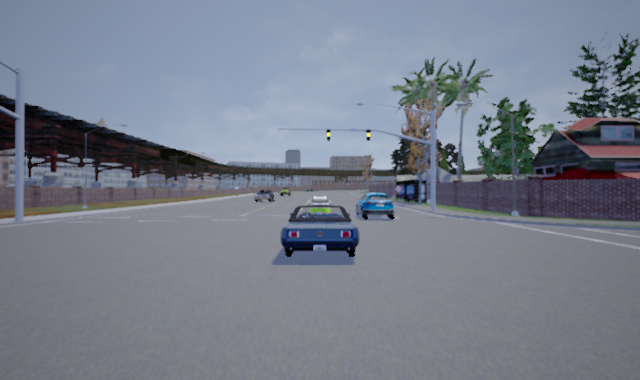traffic_light: (280, 186, 292, 197), (325, 128, 332, 143), (366, 128, 372, 142)
vehicle: (279, 201, 359, 258), (353, 191, 397, 221), (307, 195, 332, 219), (253, 189, 275, 202)
